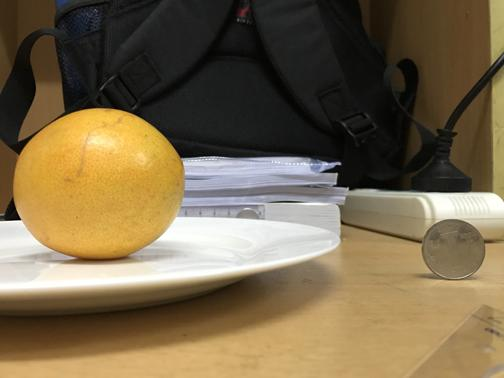coin: (423, 217, 484, 281)
orange: (16, 107, 186, 259)
